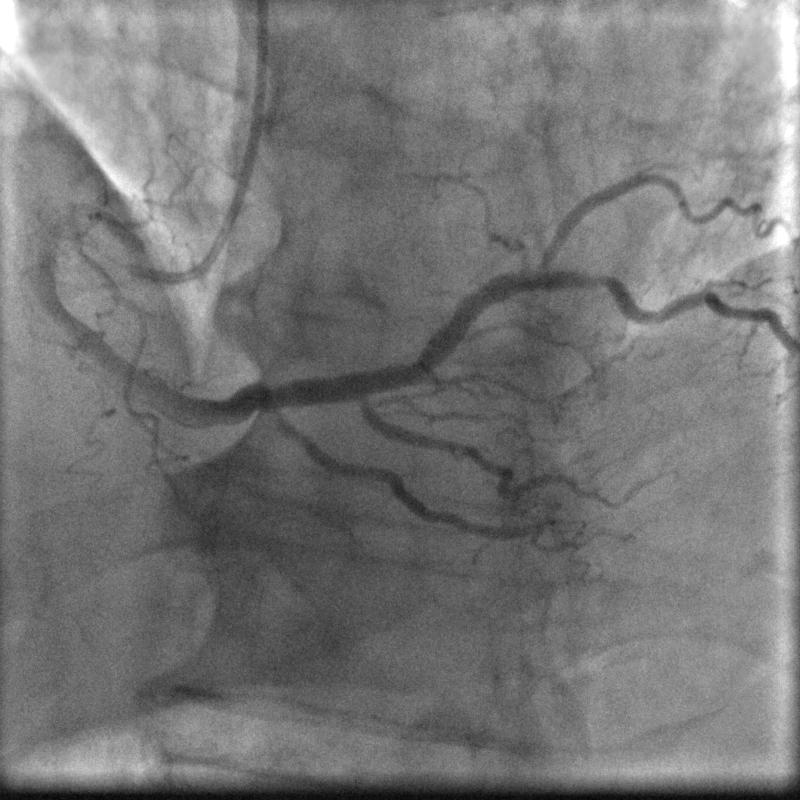Stenosis: (560, 266, 621, 298)
